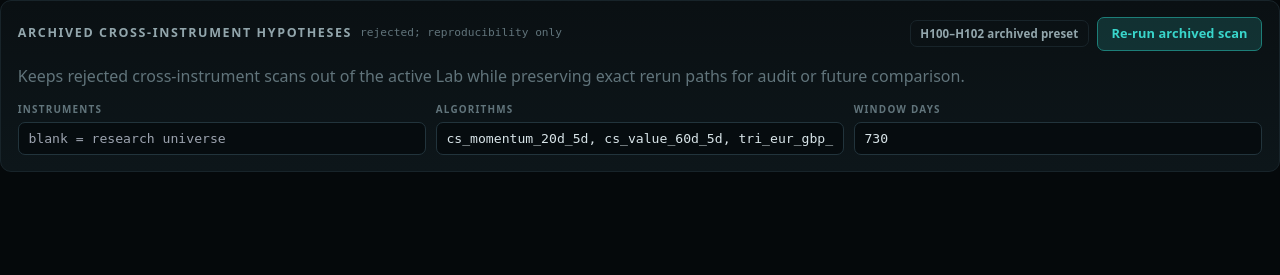
Scenario: submits archived H100-H102 rerun from archive panel
The image size is (1280, 275).
Click the button "Re-run archived scan" at (1180, 34), box [1097,17,1262,51]
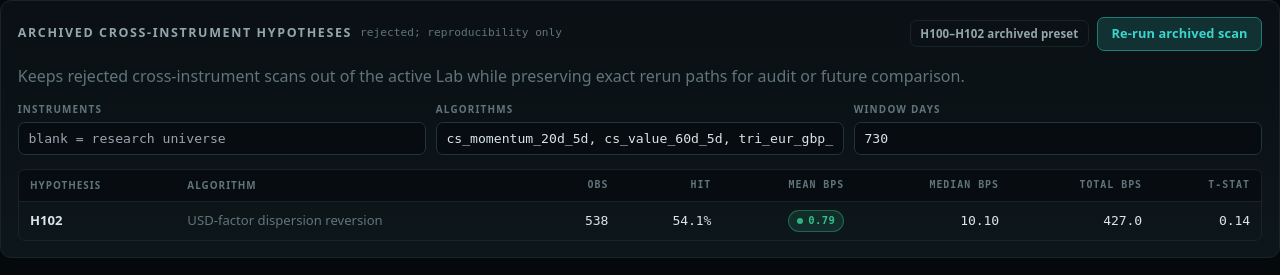
Now the text "USD-factor dispersion reversion" is shown, box [176,201,543,240]
Now the text "H102" is shown, box [19,201,176,240]
